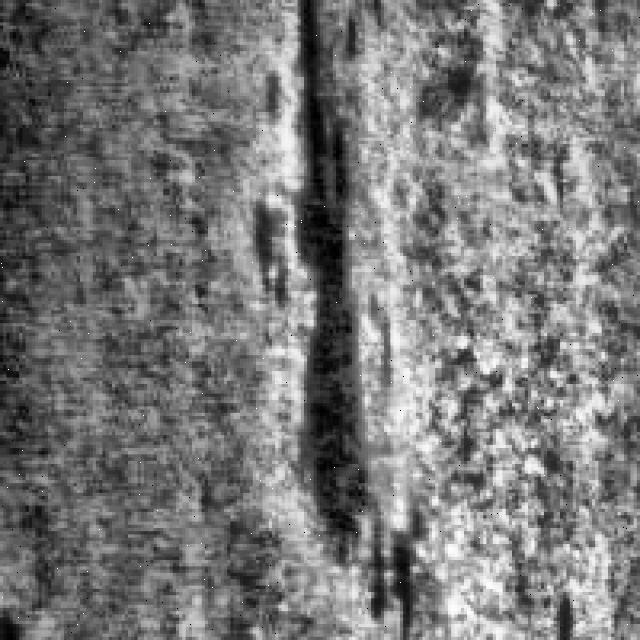Patches: (297, 0, 438, 627)
